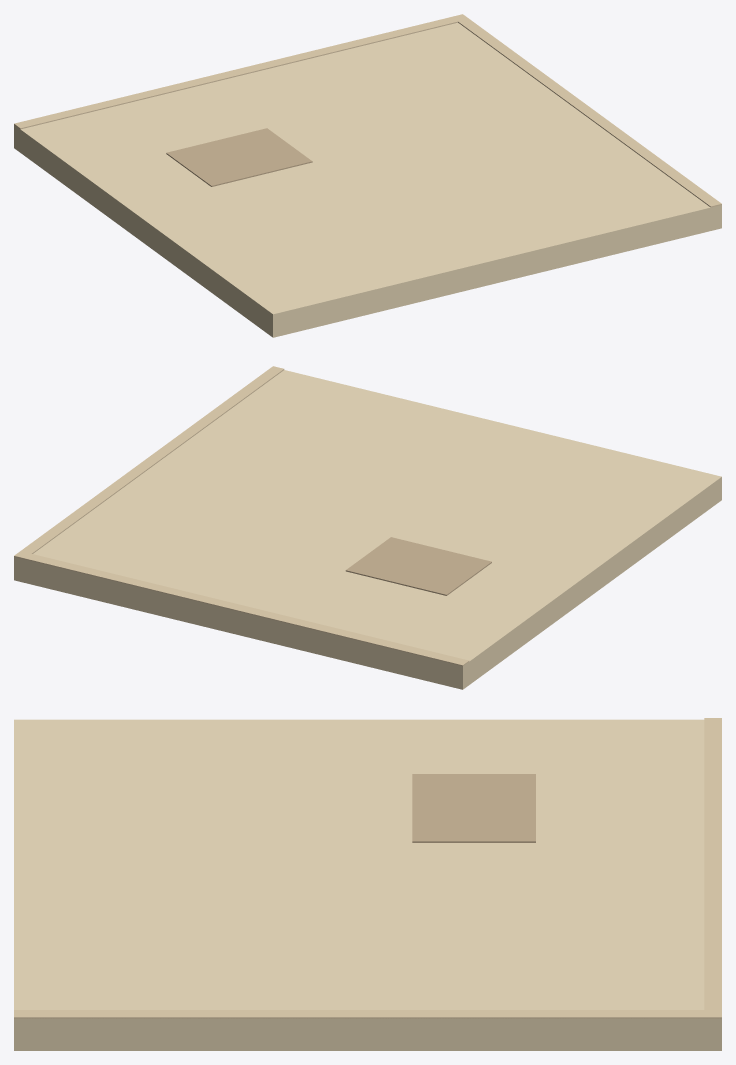
Rendered from SD_Floor.fbx.
The picture shows the model from 3 angles, top to bottom: view 1: azimuth 30°, elevation 25°; view 2: azimuth 150°, elevation 25°; view 3: azimuth 270°, elevation 25°; orthographic projection. The views are drawn at different scales.
Parts seen in each view (by area): view 1: SD_Floor; view 2: SD_Floor; view 3: SD_Floor.
Boxes of the visible parts, x1=… form: SD_Floor: x1=14, y1=14, x2=721, y2=337; SD_Floor: x1=14, y1=366, x2=721, y2=689; SD_Floor: x1=14, y1=718, x2=721, y2=1050.
Bounding box in the file's own units: 4 × 0.21 × 4.
